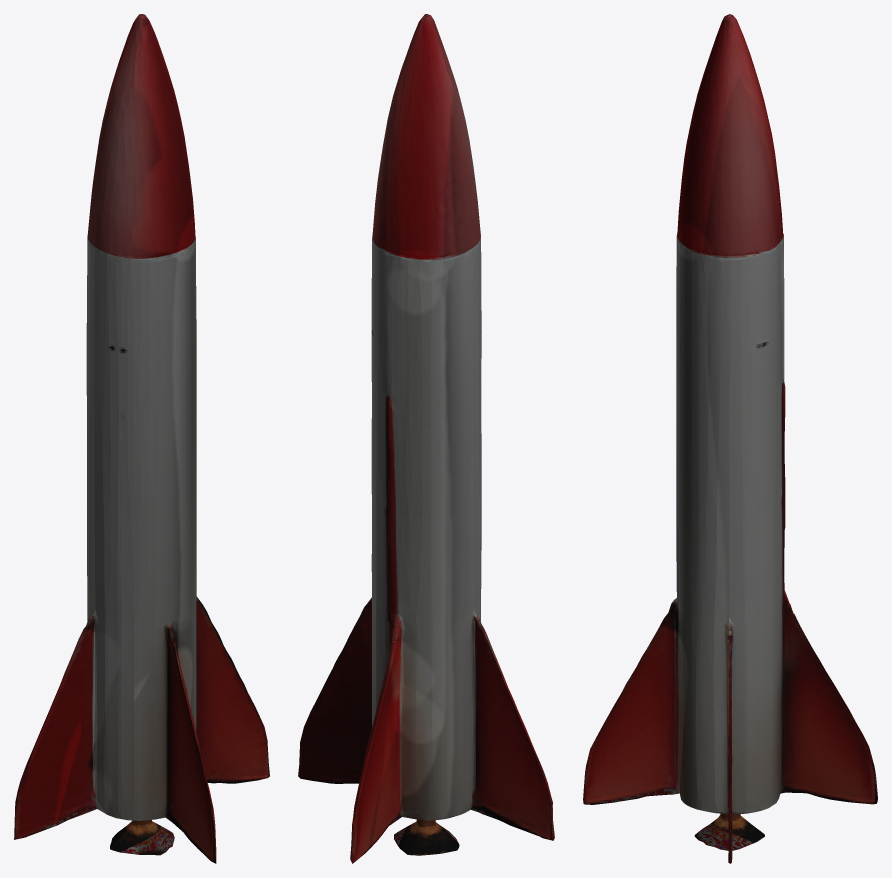
File: rocket.glb
3 renders of one model, left to right at view 1: azimuth 30°, elevation 25°; view 2: azimuth 150°, elevation 25°; view 3: azimuth 270°, elevation 25°, orthographic.
Parts seen in each view (by area): view 1: world; view 2: world; view 3: world.
Boxes of the visible parts, left/top/right/bottom form: world: left=14, top=14, right=269, bottom=863; world: left=298, top=14, right=554, bottom=863; world: left=583, top=14, right=877, bottom=863.
Size of the model in its own units: 0.3202 by 0.9934 by 0.323.
1 material, 1 textured.
